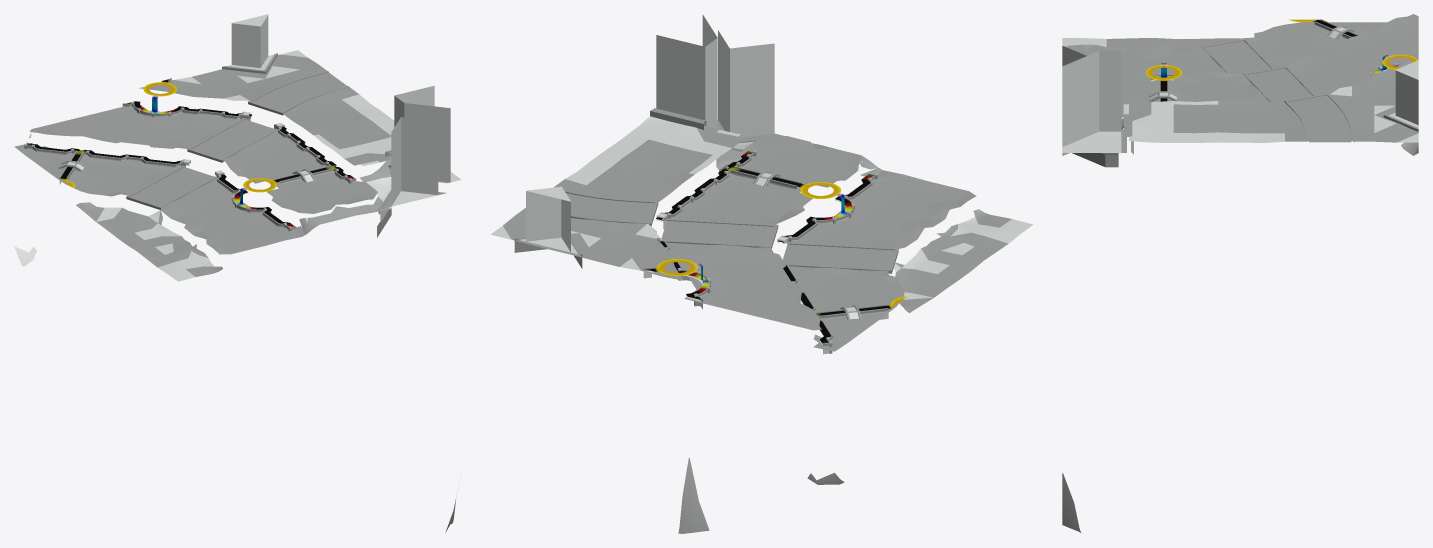
3 renders of one model, left to right at view 1: azimuth 30°, elevation 25°; view 2: azimuth 150°, elevation 25°; view 3: azimuth 270°, elevation 25°, orthographic. The views are drawn at different scales.
Parts seen in each view (by area): view 1: G:\FFXIV-MapTools\exports\d2t1\bg\ex1\02_dra_d2\twn\d2t1\bgp (×9); view 2: G:\FFXIV-MapTools\exports\d2t1\bg\ex1\02_dra_d2\twn\d2t1\bgp (×11); view 3: G:\FFXIV-MapTools\exports\d2t1\bg\ex1\02_dra_d2\twn\d2t1\bgp (×11).
Boxes of the visible parts, left/top/right/bottom form: G:\FFXIV-MapTools\exports\d2t1\bg\ex1\02_dra_d2\twn\d2t1\bgp (×9): left=14, top=15, right=461, bottom=281; G:\FFXIV-MapTools\exports\d2t1\bg\ex1\02_dra_d2\twn\d2t1\bgp (×11): left=491, top=14, right=1033, bottom=533; G:\FFXIV-MapTools\exports\d2t1\bg\ex1\02_dra_d2\twn\d2t1\bgp (×11): left=1062, top=14, right=1418, bottom=533.
Bounding box in the file's own units: 64 × 91.44 × 64.
